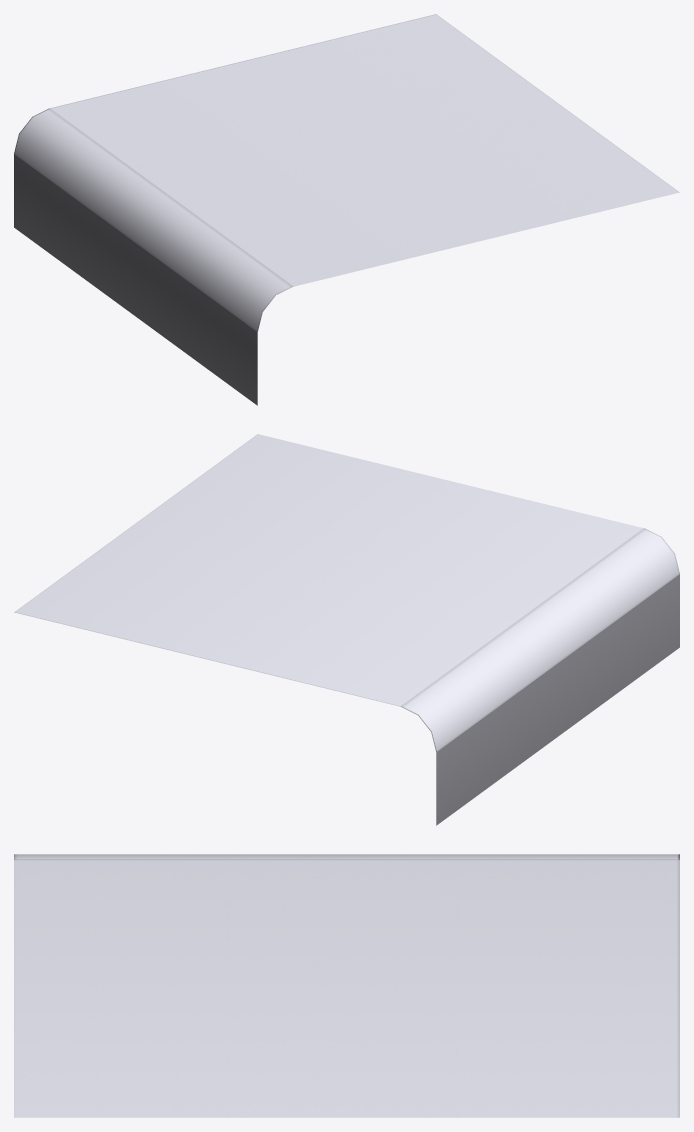
File: Roof_01.FBX
3 views of the same model, one above another, from view 1: azimuth 30°, elevation 25°; view 2: azimuth 150°, elevation 25°; view 3: azimuth 270°, elevation 25° (orthographic). The views are drawn at different scales.
Parts seen in each view (by area): view 1: Roof_01; view 2: Roof_01; view 3: Roof_01.
Boxes of the visible parts, box(x1,y1,x2,y2) form: Roof_01: box(14, 14, 679, 405); Roof_01: box(14, 434, 679, 825); Roof_01: box(14, 854, 679, 1117).
Size of the model in its own units: 3 by 0.75 by 3.
Materials: 1 (1 with a texture image).
